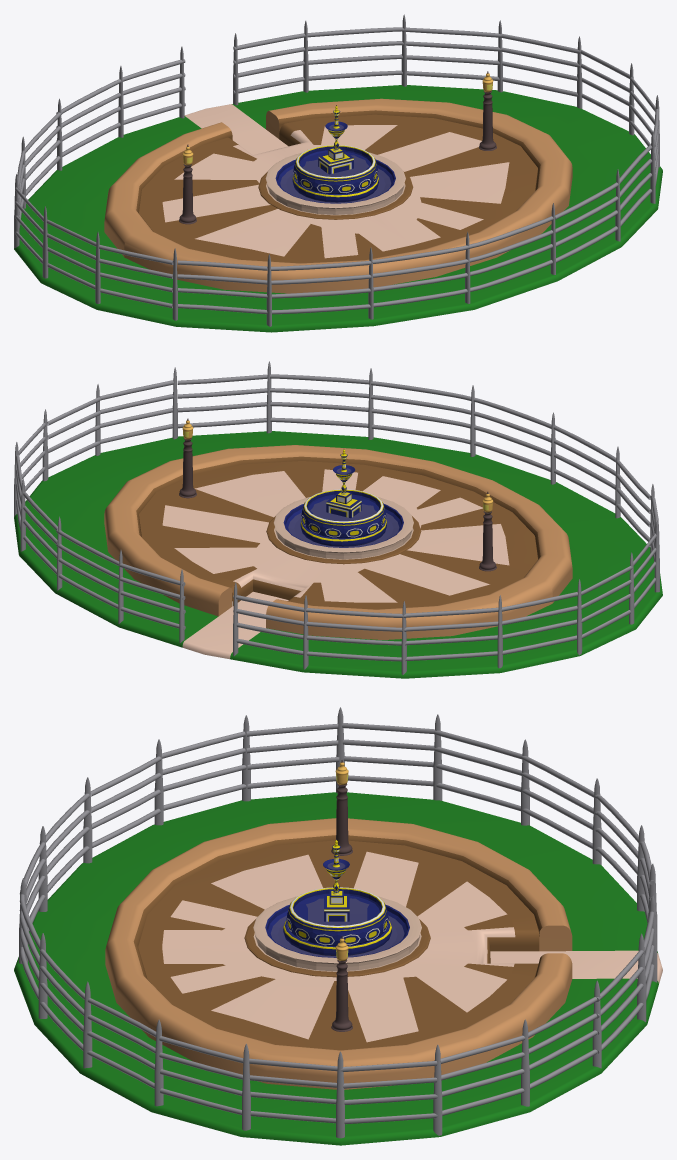
File: Praça.fbx
3 renders of one model, top to bottom at view 1: azimuth 30°, elevation 25°; view 2: azimuth 150°, elevation 25°; view 3: azimuth 270°, elevation 25°, orthographic. The views are drawn at different scales.
Parts seen in each view (by area): view 1: Circle.011, Circle.012, Circle.010, Circle.009, Cylinder.050, Cylinder.049, Cylinder.048, Cylinder.047, Cylinder.046, Cylinder.045, Cylinder.044, Cylinder.018 (+30 smaller); view 2: Circle.011, Circle.012, Circle.010, Circle.009, Cylinder.050, Cylinder.049, Cylinder.048, Cylinder.047, Cylinder.046, Cylinder.044, Cylinder.018, Cylinder.045 (+31 smaller); view 3: Circle.011, Circle.012, Circle.010, Circle.009, Cylinder.062, Cylinder.067, Cylinder.066, Cylinder.065, Cylinder.060, Cylinder.061, Cylinder.030, Cylinder.029 (+35 smaller).
Boxes of the visible parts, x1,y1,x2,y2 form: Circle.011: (104, 98, 572, 293); Circle.012: (14, 85, 662, 332); Circle.010: (258, 145, 413, 219); Circle.009: (179, 71, 496, 224); Cylinder.050: (372, 216, 553, 263); Cylinder.049: (373, 230, 553, 277); Cylinder.048: (373, 244, 552, 291); Cylinder.047: (373, 260, 552, 307); Cylinder.046: (271, 182, 618, 270); Cylinder.045: (271, 196, 618, 284); Cylinder.044: (272, 210, 617, 298); Cylinder.018: (56, 27, 406, 113); Circle.011: (104, 445, 572, 659); Circle.012: (14, 431, 662, 678); Circle.010: (266, 489, 421, 564); Circle.009: (179, 418, 496, 571); Cylinder.050: (371, 381, 551, 428); Cylinder.049: (371, 395, 551, 442); Cylinder.048: (371, 408, 550, 456); Cylinder.047: (371, 424, 550, 471); Cylinder.046: (270, 374, 616, 462); Cylinder.044: (270, 402, 615, 489); Cylinder.018: (56, 529, 406, 618); Cylinder.045: (270, 388, 615, 475); Circle.011: (105, 818, 662, 1089); Circle.012: (14, 792, 658, 1145); Circle.010: (244, 887, 430, 977); Circle.009: (331, 760, 352, 1031); Cylinder.062: (433, 714, 442, 1135); Cylinder.067: (242, 715, 250, 1130); Cylinder.066: (154, 739, 163, 1106); Cylinder.065: (83, 777, 92, 1068); Cylinder.060: (592, 778, 601, 1068); Cylinder.061: (521, 739, 529, 1106); Cylinder.030: (340, 723, 437, 1071); Cylinder.029: (342, 739, 437, 1088).
Bounding box in the file's own units: 23452 × 4091 × 18403.
